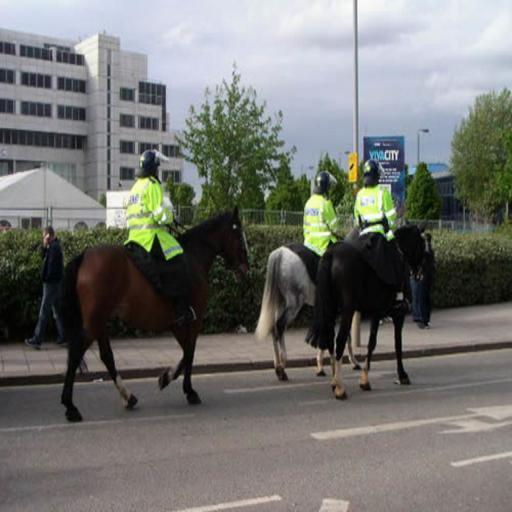horse: (58, 204, 252, 424), (304, 214, 431, 400), (248, 238, 364, 382)
